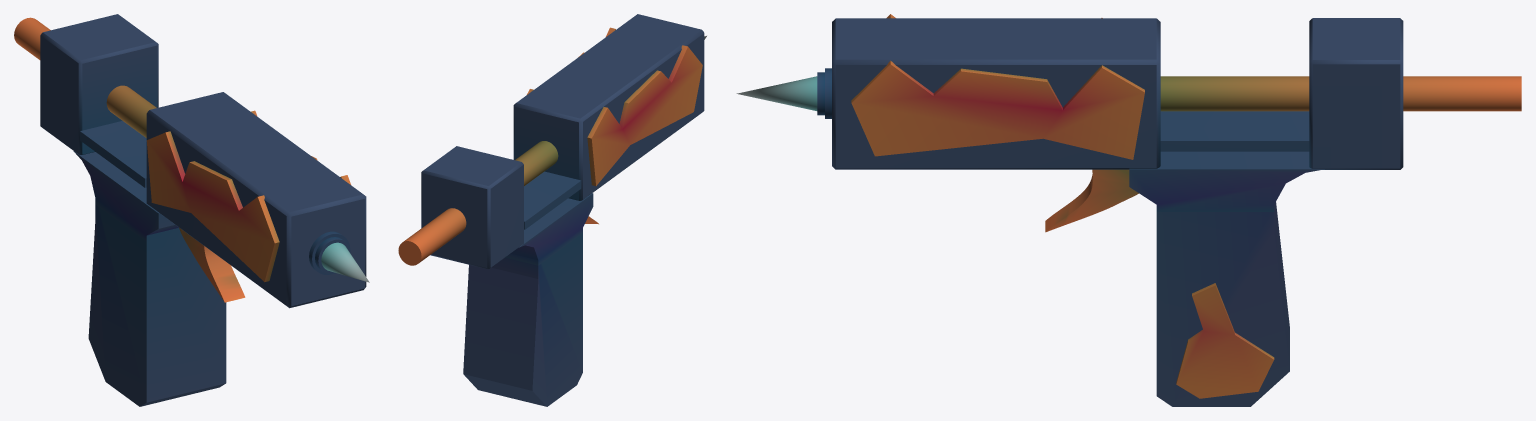
3 renders of one model, left to right at view 1: azimuth 30°, elevation 25°; view 2: azimuth 150°, elevation 25°; view 3: azimuth 270°, elevation 25°, orthographic. The views are drawn at different scales.
Parts seen in each view (by area): view 1: housing, grip, block, copper_patch.001, frame, ledge, rod, blade, point, collar, rim; view 2: grip, housing, block, copper_patch.001, rod, frame, ledge; view 3: housing, copper_patch, grip, block, rod, frame, foot_patch, ledge, blade, point.
Part boxes in pixels (x1,y1,x2,y2): housing: (146, 92, 366, 308); grip: (88, 204, 226, 406); block: (40, 14, 158, 154); copper_patch.001: (146, 131, 279, 282); frame: (73, 151, 178, 241); ledge: (80, 121, 146, 187); rod: (14, 17, 156, 137); blade: (179, 227, 245, 302); point: (321, 242, 369, 282); collar: (309, 231, 349, 274); rim: (315, 237, 350, 274); grip: (463, 233, 582, 406); housing: (513, 14, 704, 200); block: (421, 146, 523, 269); copper_patch.001: (587, 45, 702, 186); rod: (398, 141, 558, 265); frame: (505, 193, 593, 265); ledge: (524, 171, 581, 229); housing: (832, 18, 1160, 169); copper_patch: (851, 60, 1144, 159); grip: (1156, 202, 1289, 406); block: (1309, 18, 1403, 169); rod: (1160, 76, 1521, 111); frame: (1129, 151, 1324, 211); foot_patch: (1176, 283, 1274, 398); ledge: (1160, 111, 1309, 151); blade: (1045, 169, 1138, 232); point: (736, 76, 817, 110).
Size of the model in its own units: 0.0304 by 0.0974 by 0.2007.
